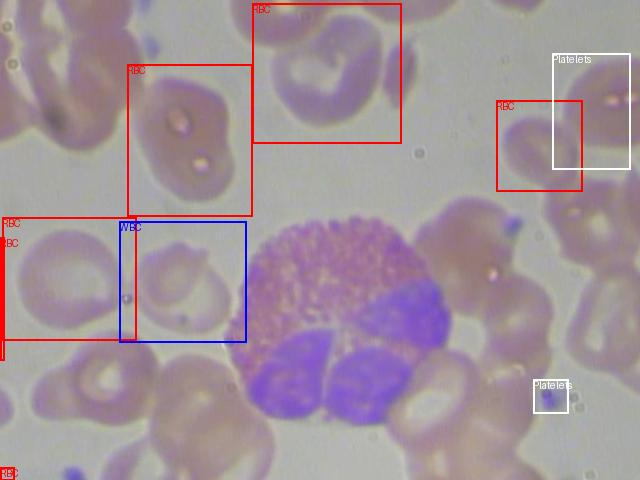Platelets: (552, 53, 630, 169), (533, 379, 568, 413)
RBC: (252, 3, 401, 143), (127, 64, 252, 216), (2, 217, 136, 340), (496, 100, 582, 191), (0, 237, 4, 360), (0, 467, 14, 480)
WBC: (119, 221, 246, 342)
